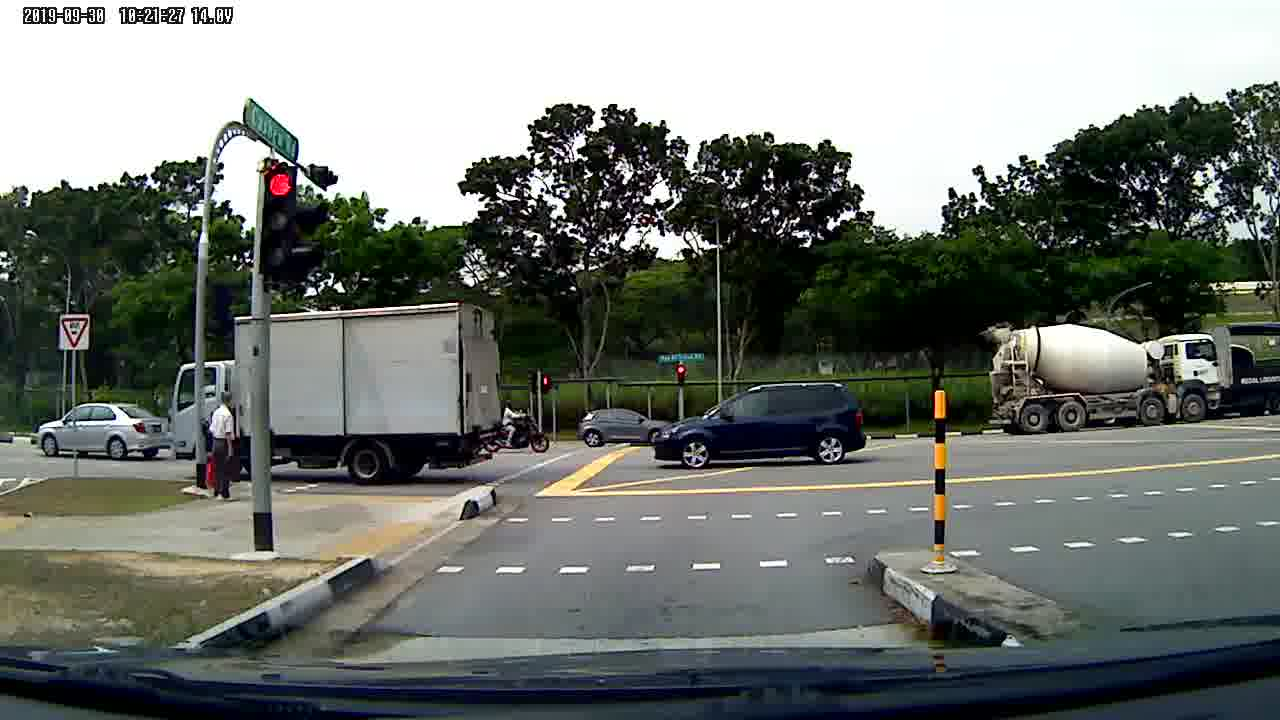car: (652, 382, 873, 469), (30, 396, 168, 466), (569, 404, 676, 447)
